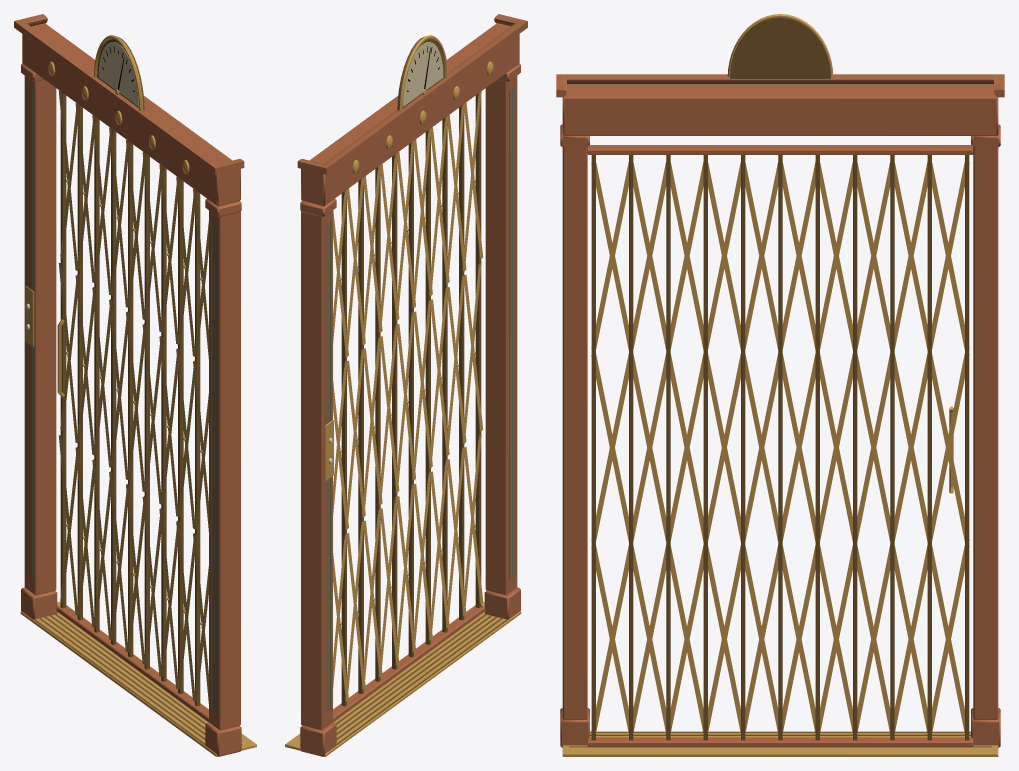
Rendered from elevator_cage.glb.
The picture shows the model from 3 angles, left to right: view 1: azimuth 30°, elevation 25°; view 2: azimuth 150°, elevation 25°; view 3: azimuth 270°, elevation 25°; orthographic projection. The views are drawn at different scales.
Parts seen in each view (by area): view 1: copper, brass, brass_d, verdigris, cream; view 2: copper, brass, brass_d, verdigris, cream; view 3: copper, brass, brass_d.
Boxes of the visible parts, <box> form: copper: <box>14,14,244,756</box>; brass: <box>20,35,256,756</box>; brass_d: <box>33,36,241,745</box>; verdigris: <box>26,85,217,713</box>; cream: <box>98,42,139,106</box>; copper: <box>297,14,527,756</box>; brass: <box>285,35,521,756</box>; brass_d: <box>300,36,508,745</box>; verdigris: <box>324,85,515,713</box>; cream: <box>402,42,443,106</box>; copper: <box>556,74,1004,747</box>; brass: <box>562,14,998,756</box>; brass_d: <box>569,16,991,747</box>.
Size of the model in its own units: 0.185 by 2.56 by 1.44.
